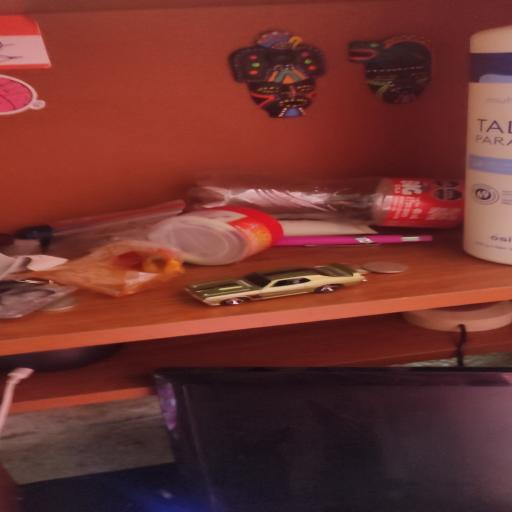Carrito: (186, 263, 366, 306)
